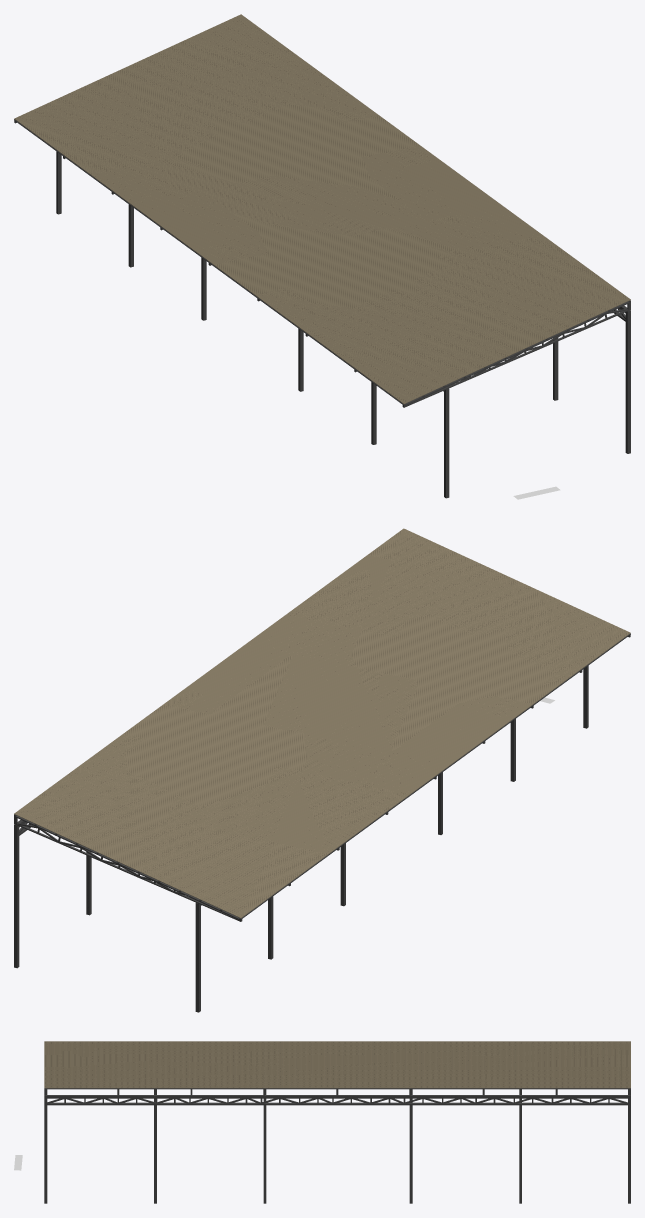
File: naves5.50na16m.glb
3 views of the same model, one above another, from view 1: azimuth 30°, elevation 25°; view 2: azimuth 150°, elevation 25°; view 3: azimuth 270°, elevation 25° (orthographic). The views are drawn at different scales.
Parts seen in each view (by area): view 1: group_230, group_43, group_59, group_22; view 2: group_230, group_2, group_59, group_210; view 3: group_230, group_0, group_20, group_50, group_43, group_277, group_278, group_2, group_1, group_279.
Part boxes in pixels (x1,y1,x2,y2): group_230: [14, 14, 630, 403]; group_43: [625, 314, 630, 453]; group_59: [14, 119, 405, 405]; group_22: [402, 301, 630, 406]; group_230: [14, 528, 630, 918]; group_2: [14, 828, 19, 968]; group_59: [239, 633, 630, 919]; group_210: [14, 815, 242, 920]; group_230: [44, 1041, 630, 1088]; group_0: [44, 1095, 630, 1098]; group_20: [44, 1102, 627, 1105]; group_50: [44, 1088, 630, 1089]; group_43: [44, 1098, 47, 1203]; group_277: [409, 1105, 412, 1203]; group_278: [263, 1105, 266, 1203]; group_2: [628, 1098, 630, 1203]; group_1: [519, 1105, 521, 1203]; group_279: [154, 1105, 156, 1203].
Size of the model in its own units: 5.4 by 3.49 by 16.89.
2 materials, 2 textured.
